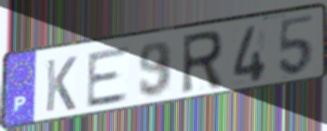4: (230, 23, 268, 86)
5: (277, 12, 318, 79)
9: (137, 40, 173, 100)
E: (84, 44, 132, 111)
K: (43, 55, 79, 115)
R: (179, 28, 224, 98)
